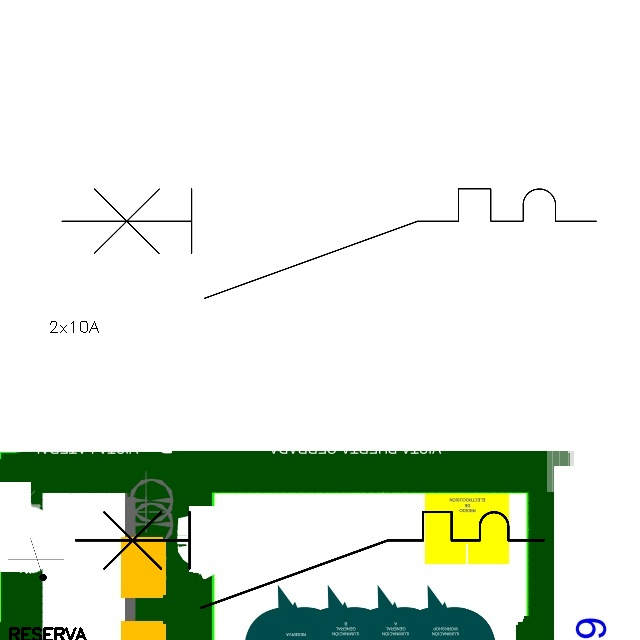interruptor_termomagnetico: (48, 175, 610, 312), (63, 500, 555, 620)
